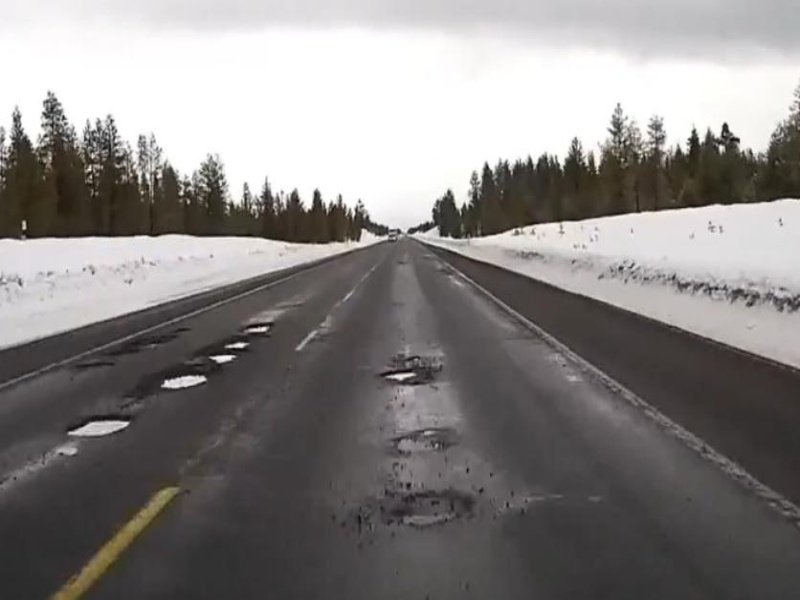pothole: (67, 411, 140, 442), (156, 367, 213, 389), (373, 366, 427, 384), (204, 350, 240, 364), (240, 323, 278, 335), (222, 340, 253, 350)
